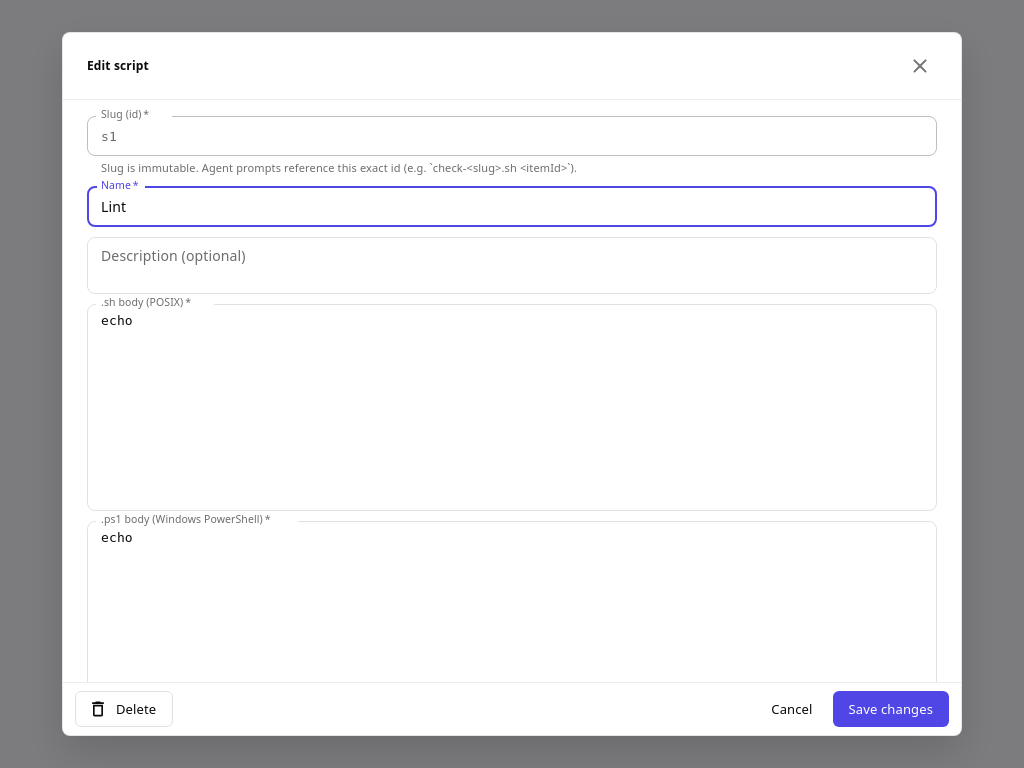
Scenario: ScriptModal › Cancel on the delete confirm keeps the script
This screenshot has width=1024, height=768.
Click the button "Delete".
click(124, 709)  # box [75,691,173,727]
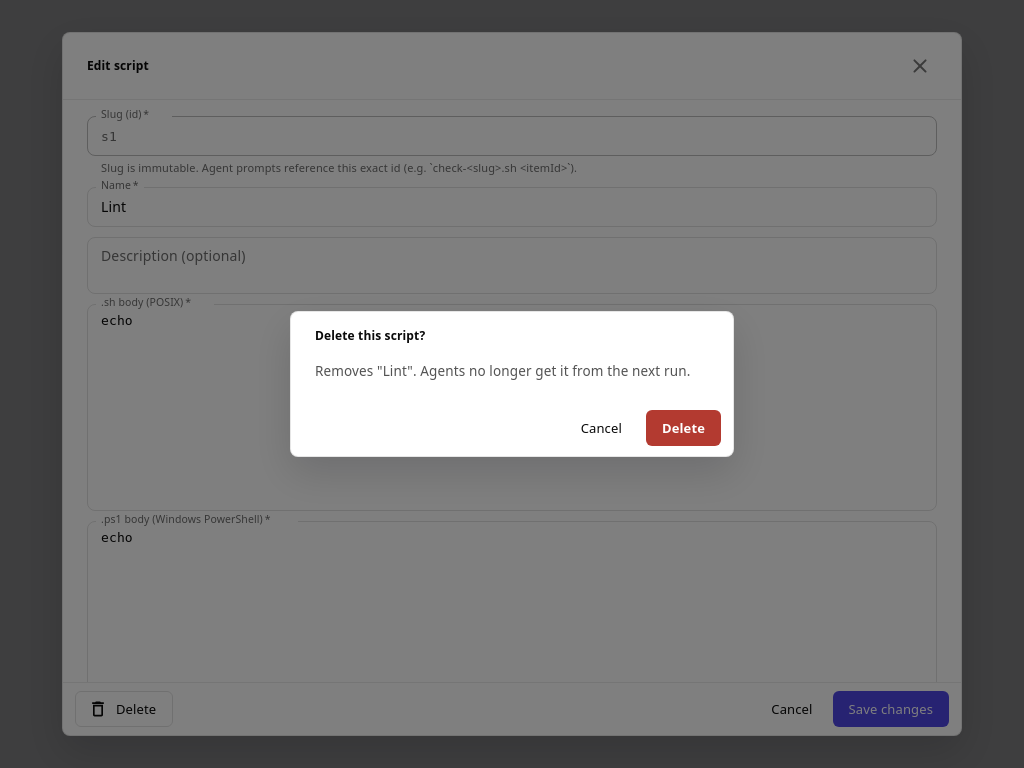
Click the button "Cancel".
click(601, 428)  # box [565,410,638,446]
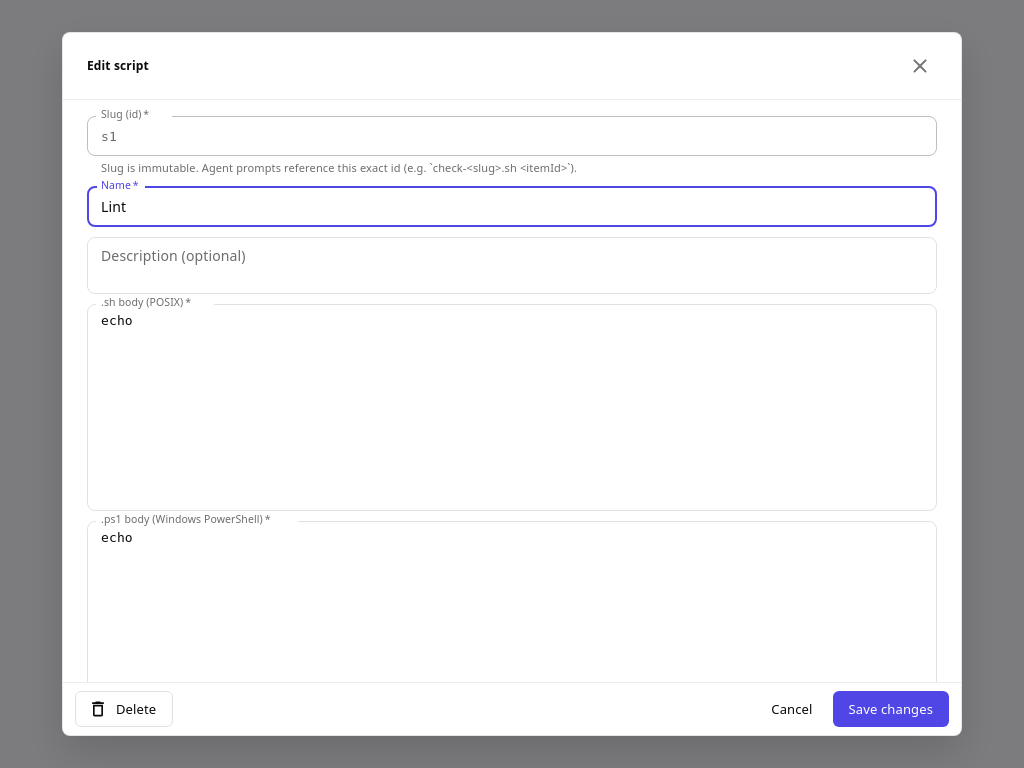
Now the heading "Delete this script?" is gone
